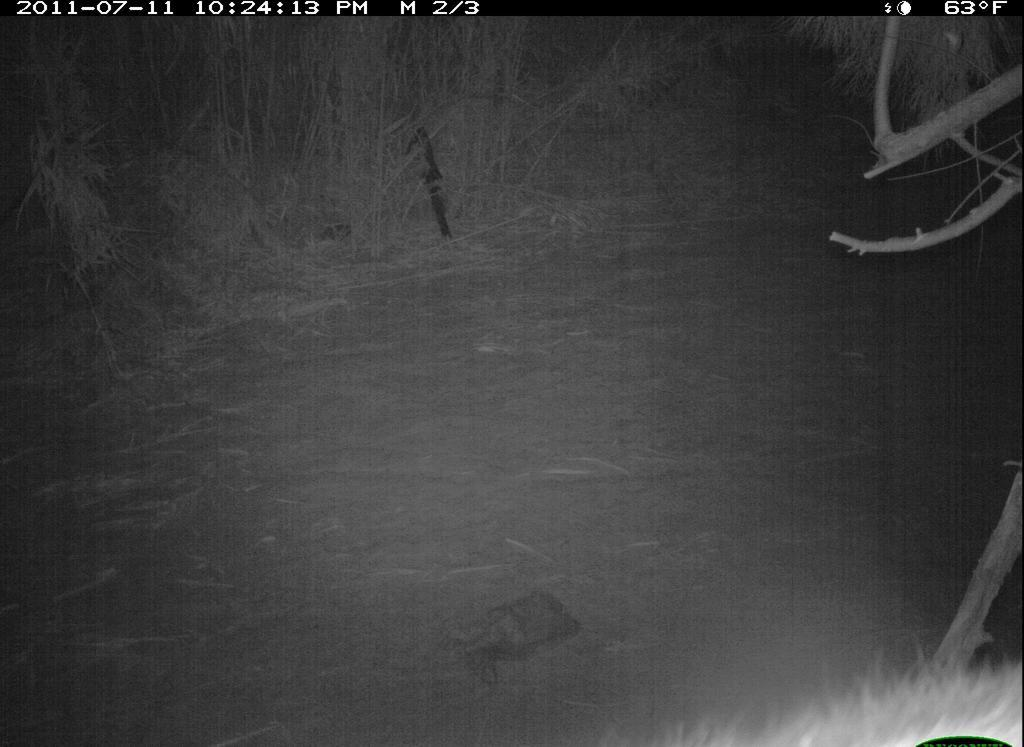raccoon: (537, 643, 1023, 747)
